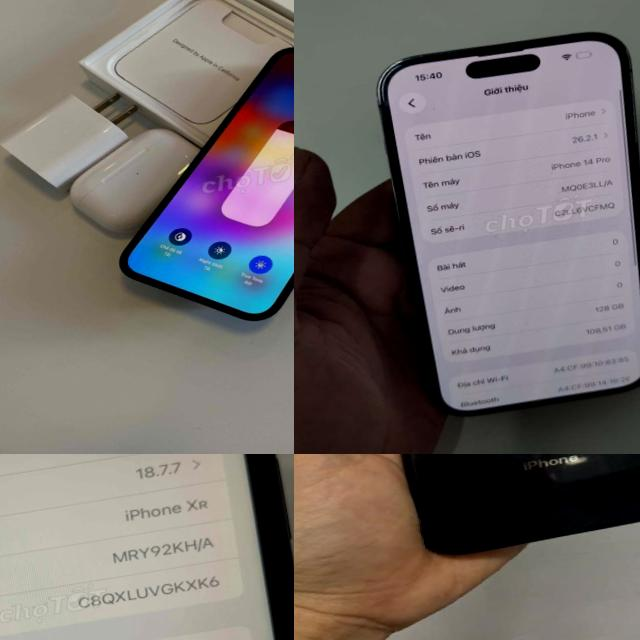gen_12_13: (85, 26, 294, 344)
gen_14: (357, 22, 640, 436)
gen_x_xs: (0, 454, 294, 640), (346, 454, 640, 568)
